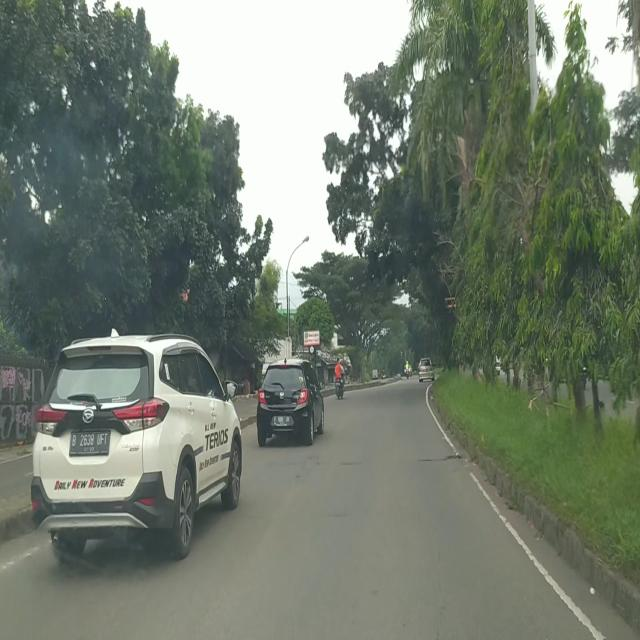Sewer Cover: (308, 455, 459, 471)
